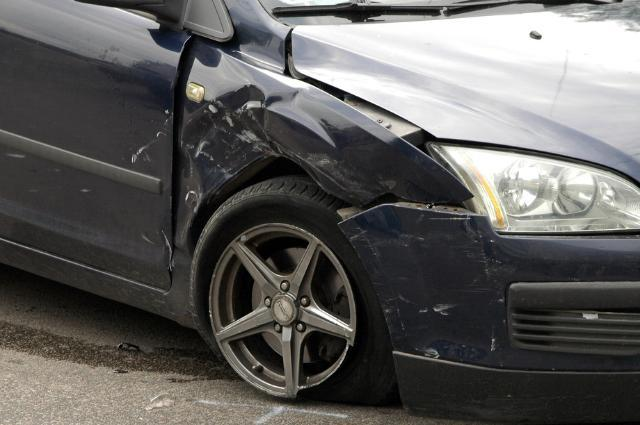Bumper: (339, 213, 640, 376)
Fender: (146, 47, 468, 293)
